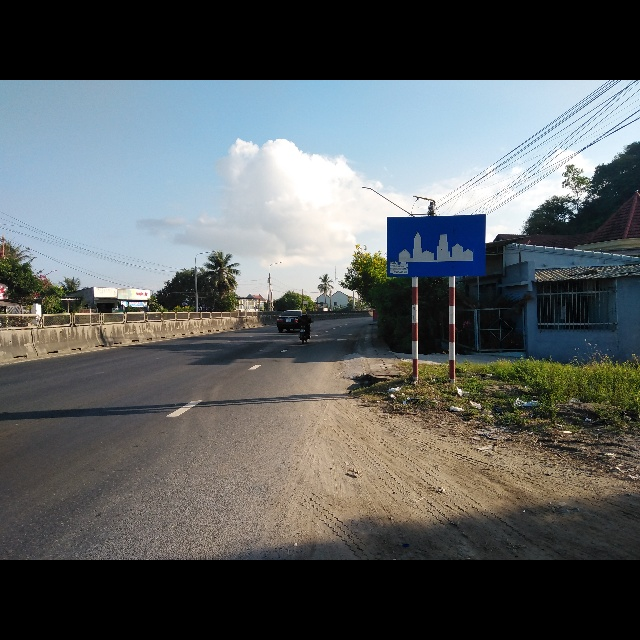Khu đông dân cư: (385, 213, 486, 279)
